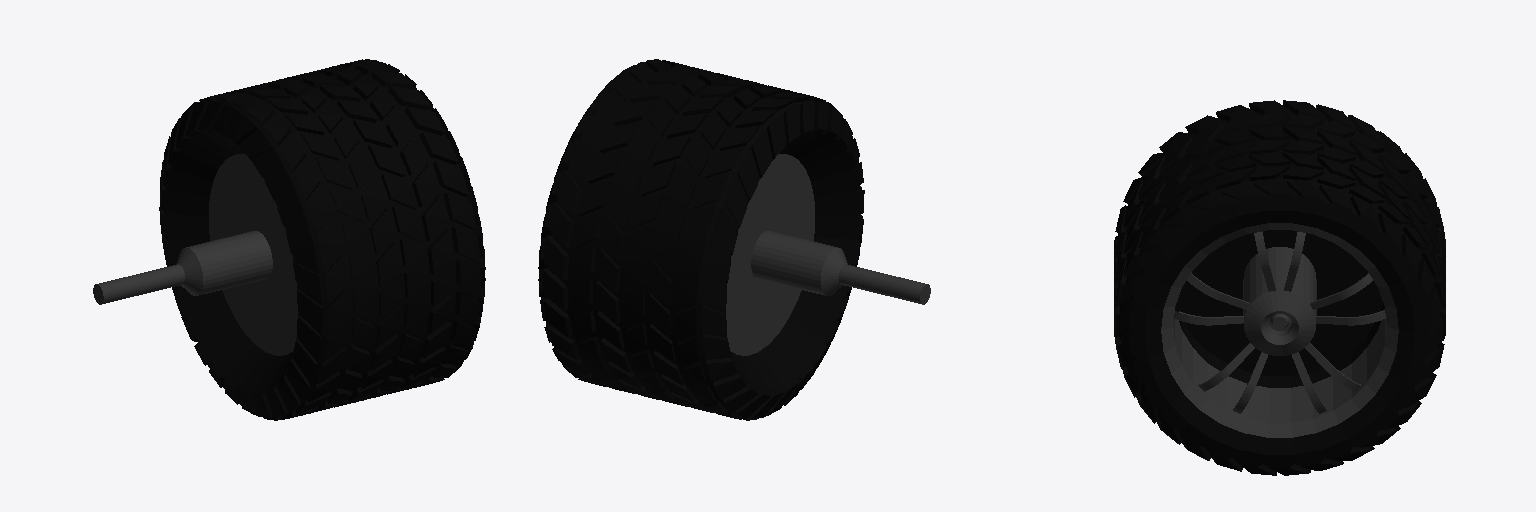
File: front_wheel.obj
The picture shows the model from 3 angles: view 1: azimuth 30°, elevation 25°; view 2: azimuth 150°, elevation 25°; view 3: azimuth 270°, elevation 25°; orthographic projection.
Parts seen in each view (by area): view 1: Cube.005_Cube.002; view 2: Cube.005_Cube.002; view 3: Cube.005_Cube.002.
Boxes of the visible parts, x1,y1,x2,y2 form: Cube.005_Cube.002: [93, 59, 485, 420]; Cube.005_Cube.002: [538, 59, 930, 420]; Cube.005_Cube.002: [1114, 100, 1445, 475].
Size of the model in its own units: 3.21 by 2.93 by 2.93.